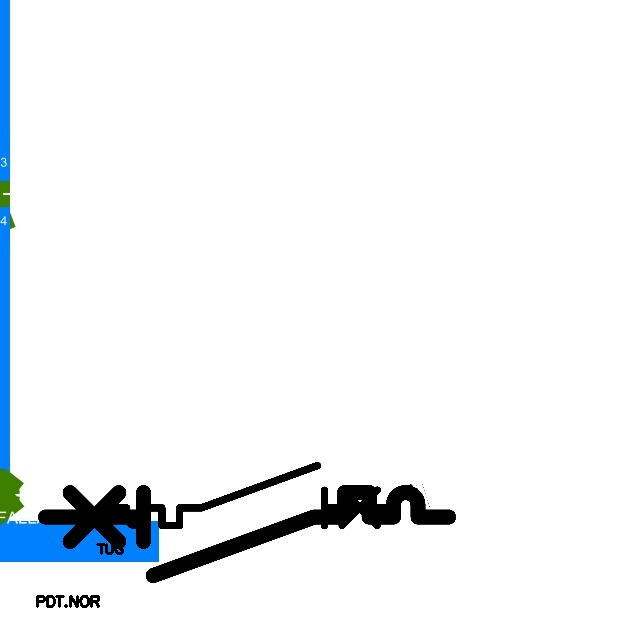interruptor_termomagnetico: (35, 482, 459, 585), (97, 458, 402, 533)
